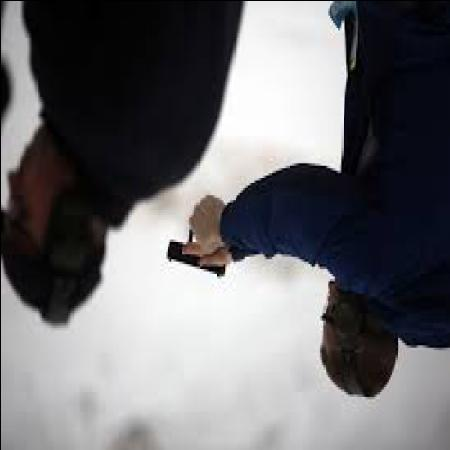Pistol: (162, 222, 229, 281)
